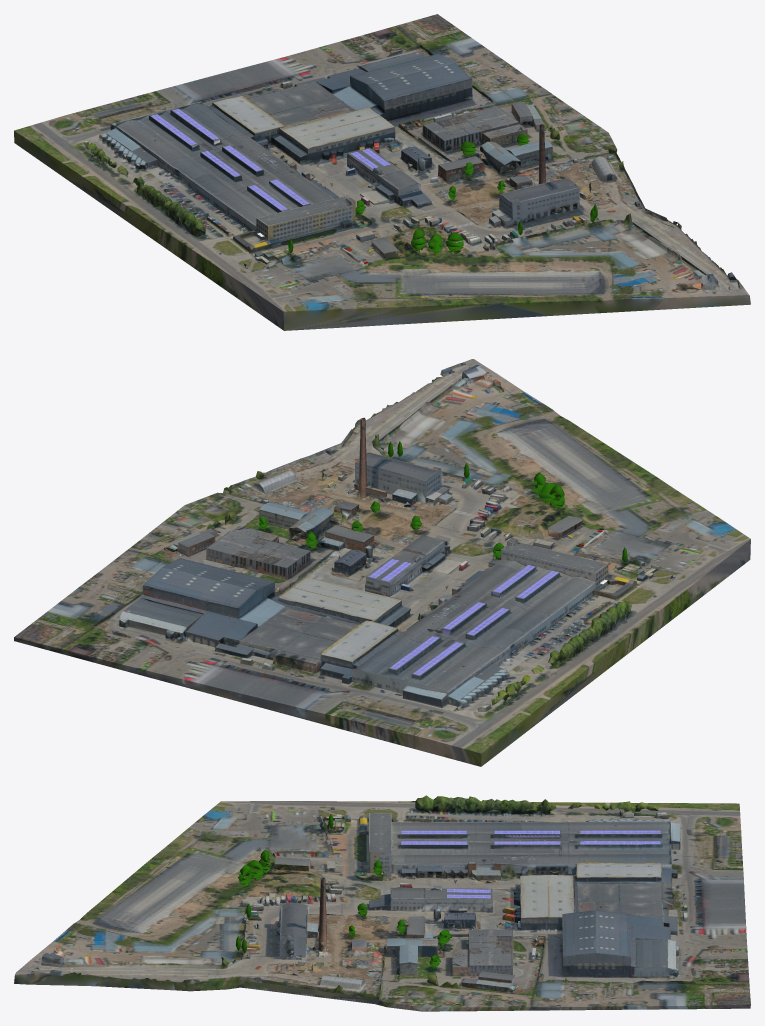
File: mobile.glb
3 renders of one model, top to bottom at view 1: azimuth 30°, elevation 25°; view 2: azimuth 150°, elevation 25°; view 3: azimuth 270°, elevation 25°, orthographic. The views are drawn at different scales.
Bounding box in the file's own units: 203 × 41.42 × 298.
Materials: 2 (2 with a texture image).
